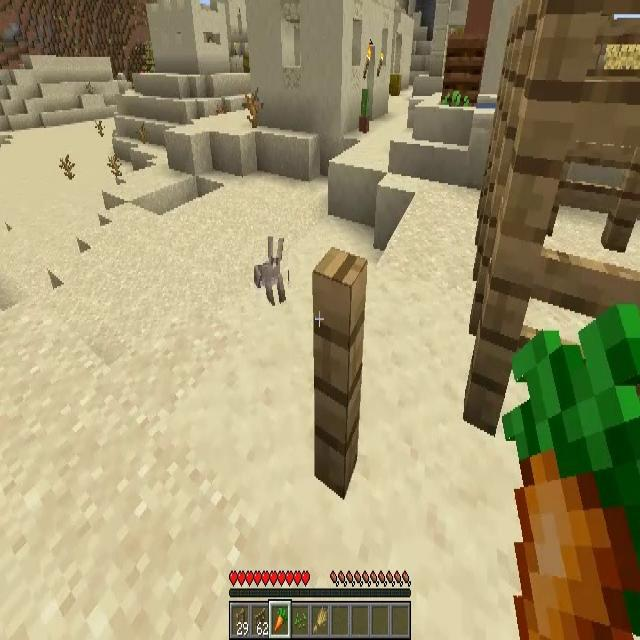rabbit: (254, 235, 288, 307)
